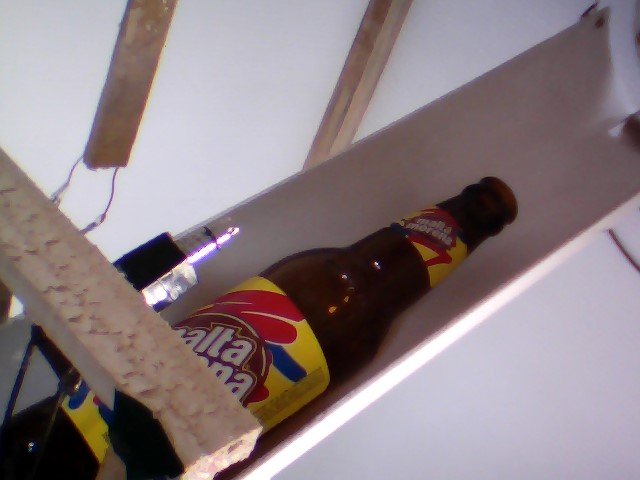vidrio: (191, 164, 544, 451)
